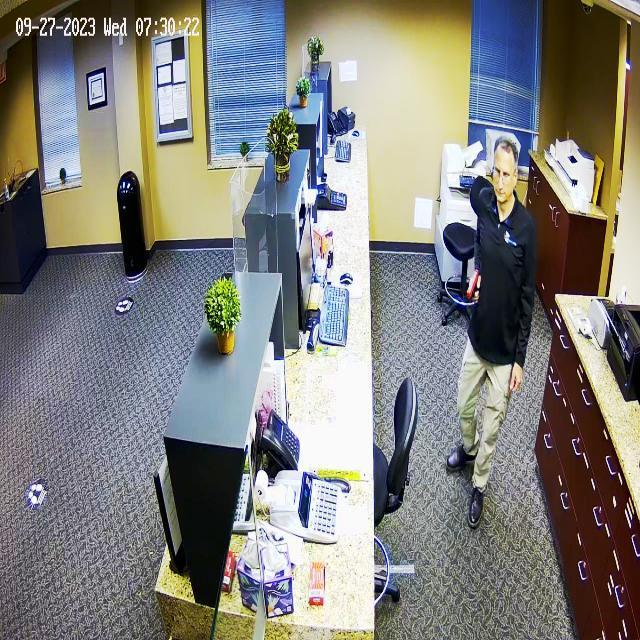Gun: (452, 261, 490, 300)
